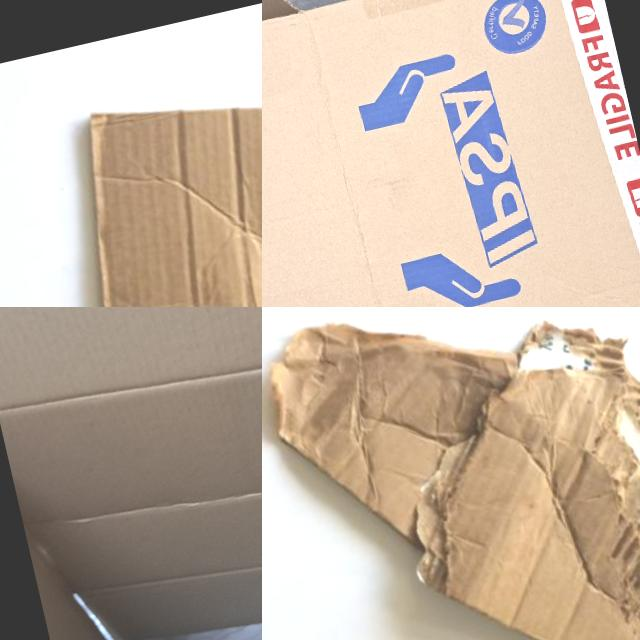papelão: (262, 307, 640, 640), (262, 0, 640, 307), (0, 307, 262, 640), (42, 30, 262, 307)
